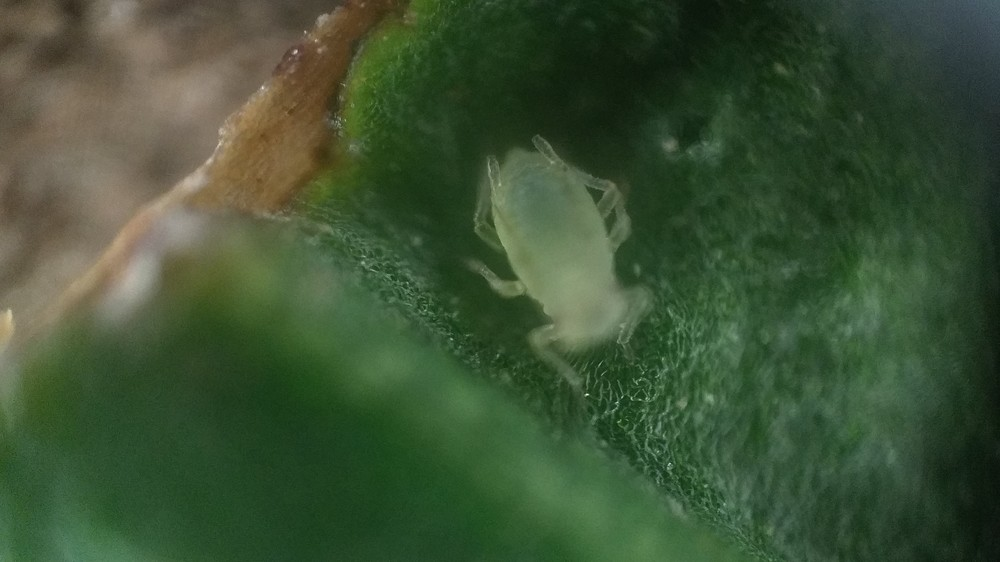Pulgon: (444, 113, 694, 425)
